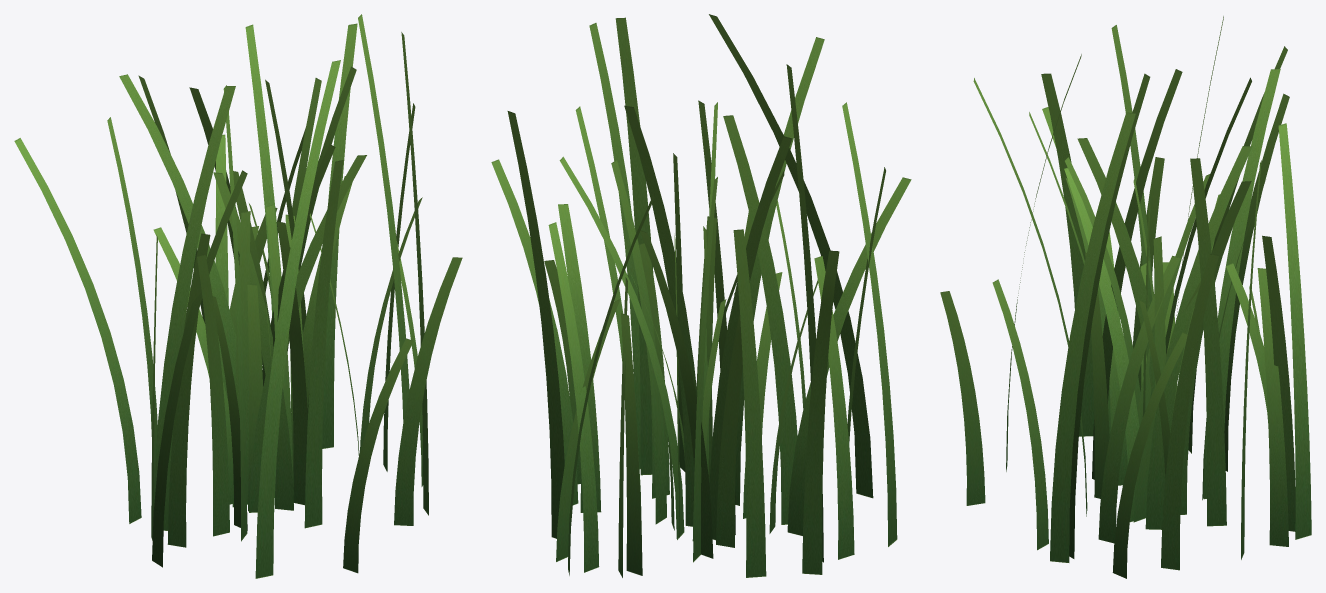
File: pasto_marino.fbx
3 views of the same model, side by side, from view 1: azimuth 30°, elevation 25°; view 2: azimuth 150°, elevation 25°; view 3: azimuth 270°, elevation 25° (orthographic). The views are drawn at different scales.
Parts seen in each view (by area): view 1: pasto_marino; view 2: pasto_marino; view 3: pasto_marino.
Boxes of the visible parts, box(x1,y1,x2,y2) form: pasto_marino: box(14, 14, 462, 578); pasto_marino: box(491, 14, 911, 577); pasto_marino: box(940, 16, 1311, 578).
Size of the model in its own units: 0.7723 by 0.9458 by 0.6694.
Materials: 1 (1 with a texture image).
